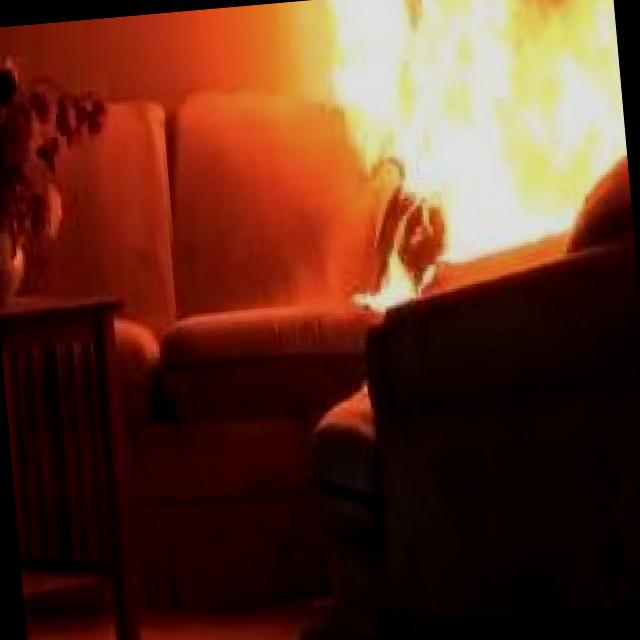fire: (297, 0, 640, 333)
